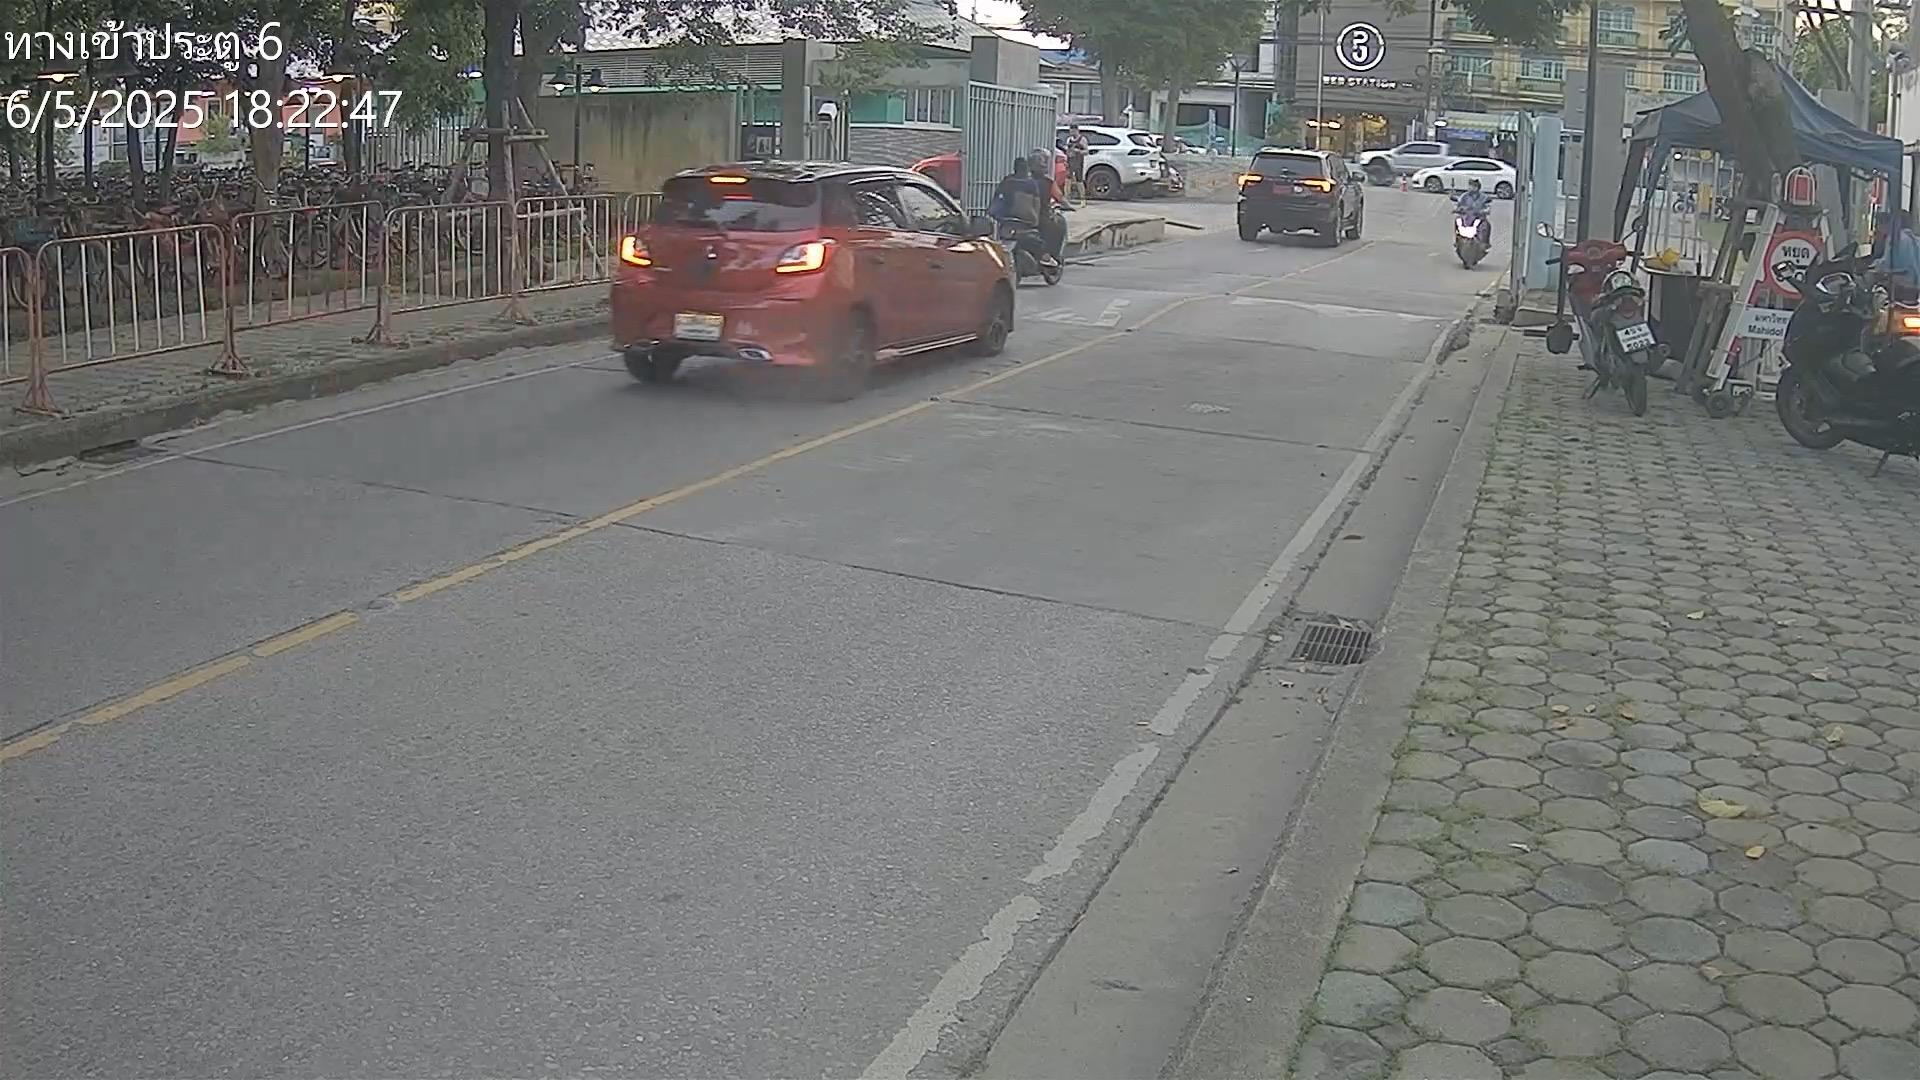With-Helmet: (1468, 177, 1481, 194)
